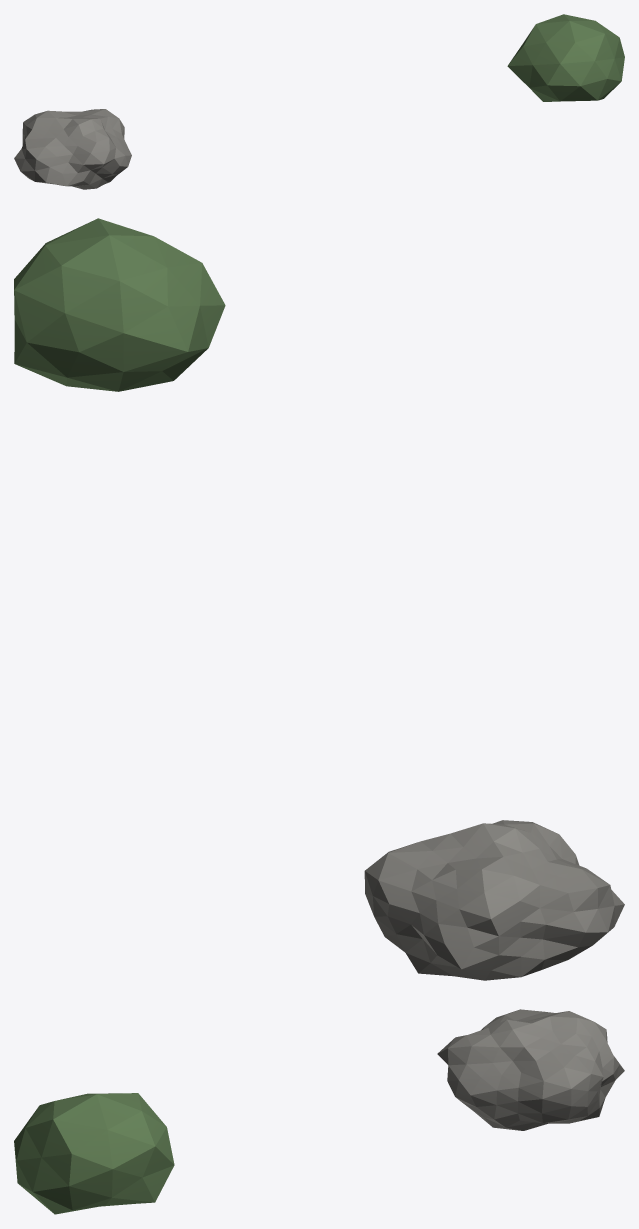
The model's file is arch_land_scatter_c15_18.glb.
3 renders of one model, top to bottom at view 1: azimuth 30°, elevation 25°; view 2: azimuth 150°, elevation 25°; view 3: azimuth 270°, elevation 25°, orthographic. The views are drawn at different scales.
Parts seen in each view (by area): view 1: arch_land_scatter_c15_18; view 2: arch_land_scatter_c15_18; view 3: arch_land_scatter_c15_18.
Part boxes in pixels (x1=…): arch_land_scatter_c15_18: x1=14, y1=14, x2=624, y2=189; arch_land_scatter_c15_18: x1=14, y1=218, x2=624, y2=980; arch_land_scatter_c15_18: x1=14, y1=1009, x2=624, y2=1214.
Size of the model in its own units: 9.84 by 3.84 by 7.89.
